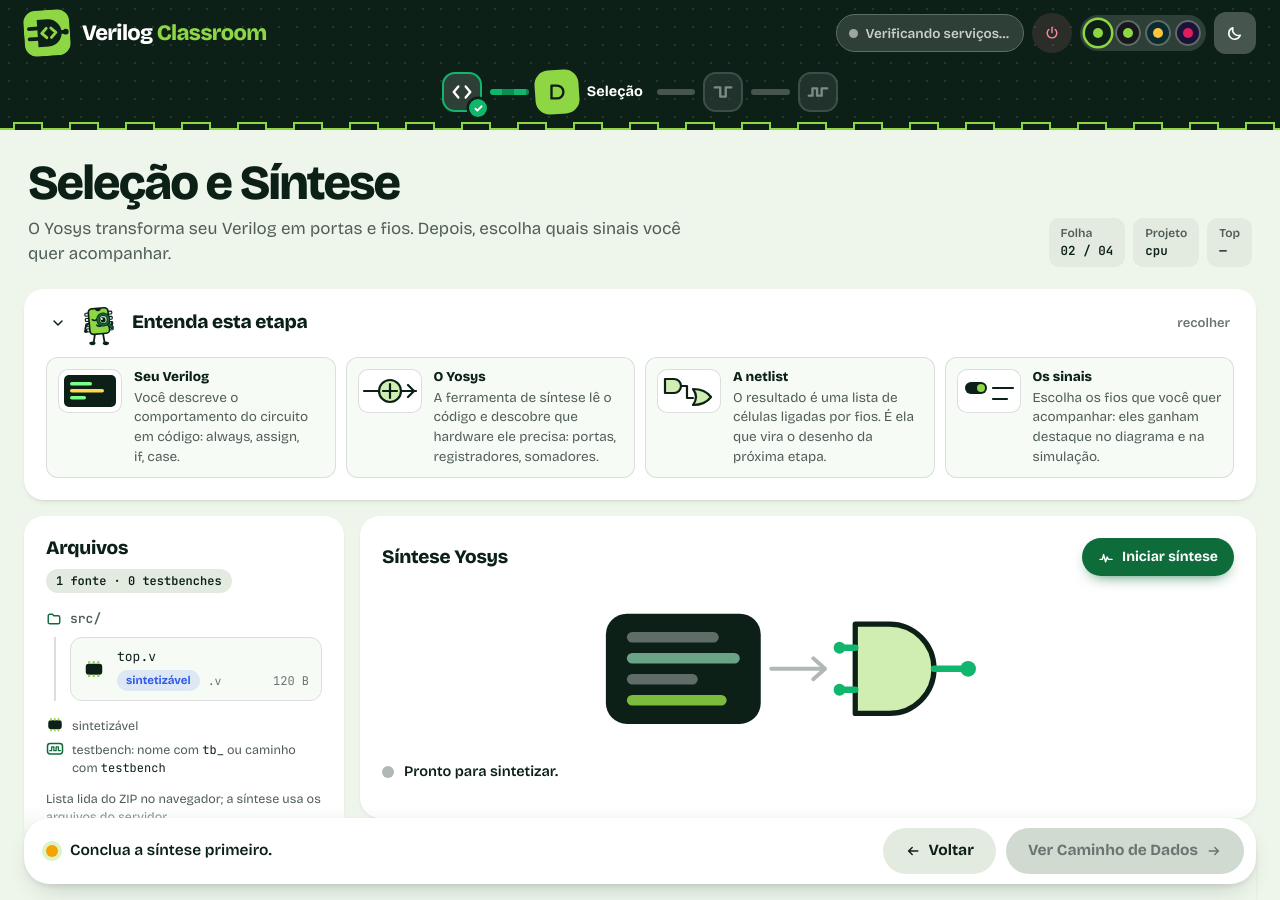
Tela 2b — escolha explícita do top (#27) › escolher outro módulo ressintetiza com top_module e mantém a lista da síntese automática
Click the button "Iniciar síntese": (1158, 557) 1082,538 -> 1234,576
(page scrolled)
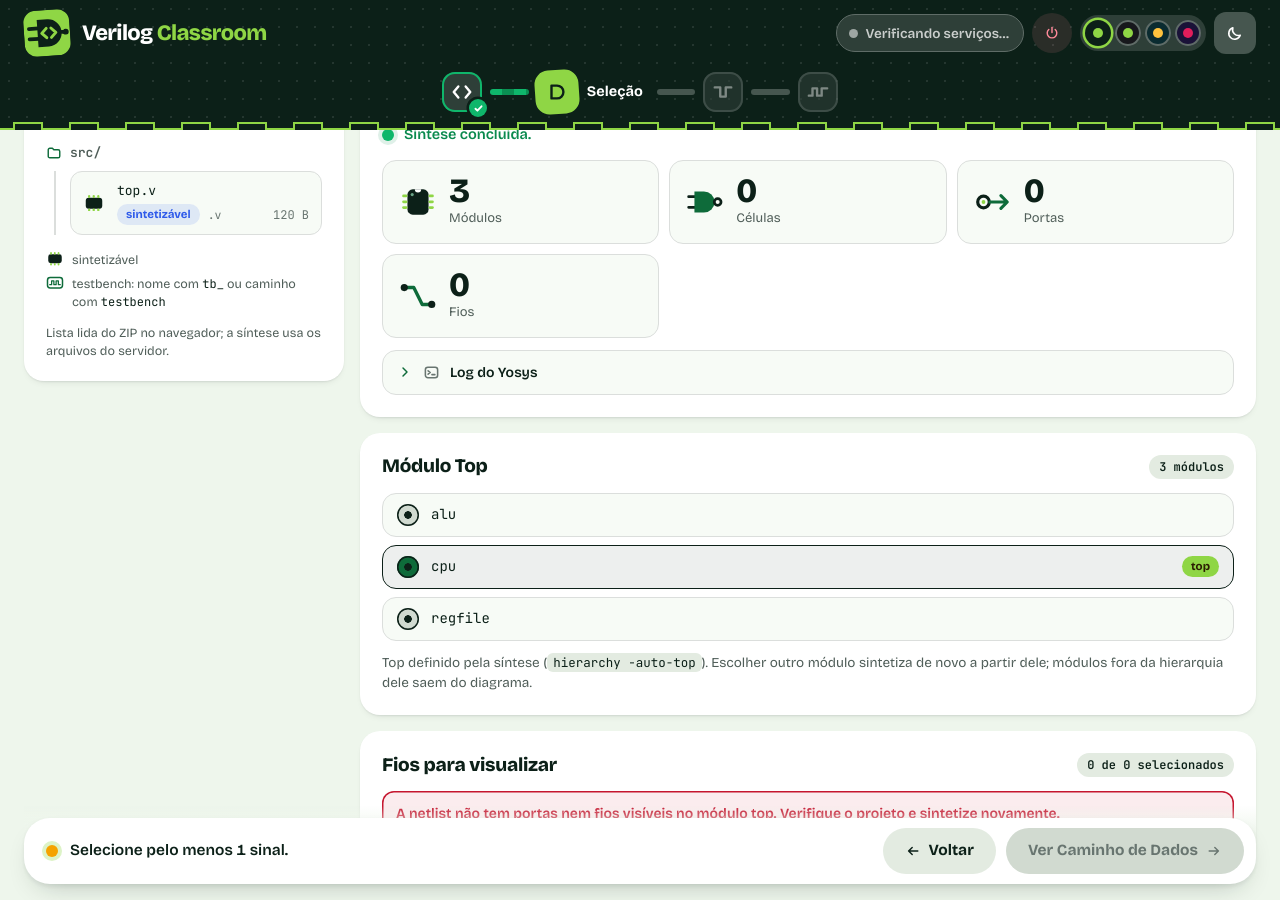
Check: the list named "Módulos encontrados na netlist" is shown, box 382,492 -> 1234,640
Check: the radio button labelled "cpu" is checked, box 397,556 -> 419,578
Click the radio button labelled "alu": (408, 514) 397,504 -> 419,526
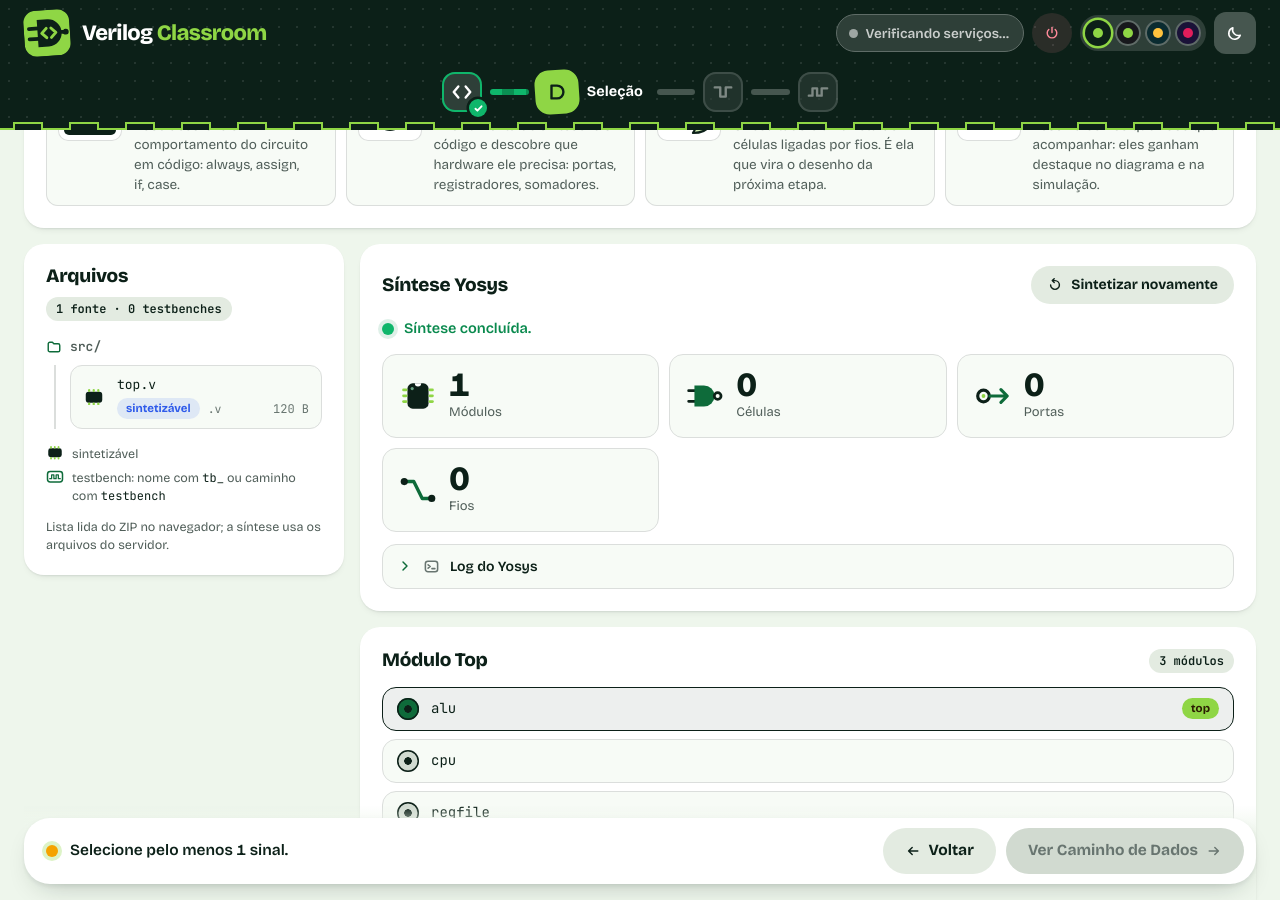
Check: the radio button labelled "alu" is checked, box 397,698 -> 419,720
